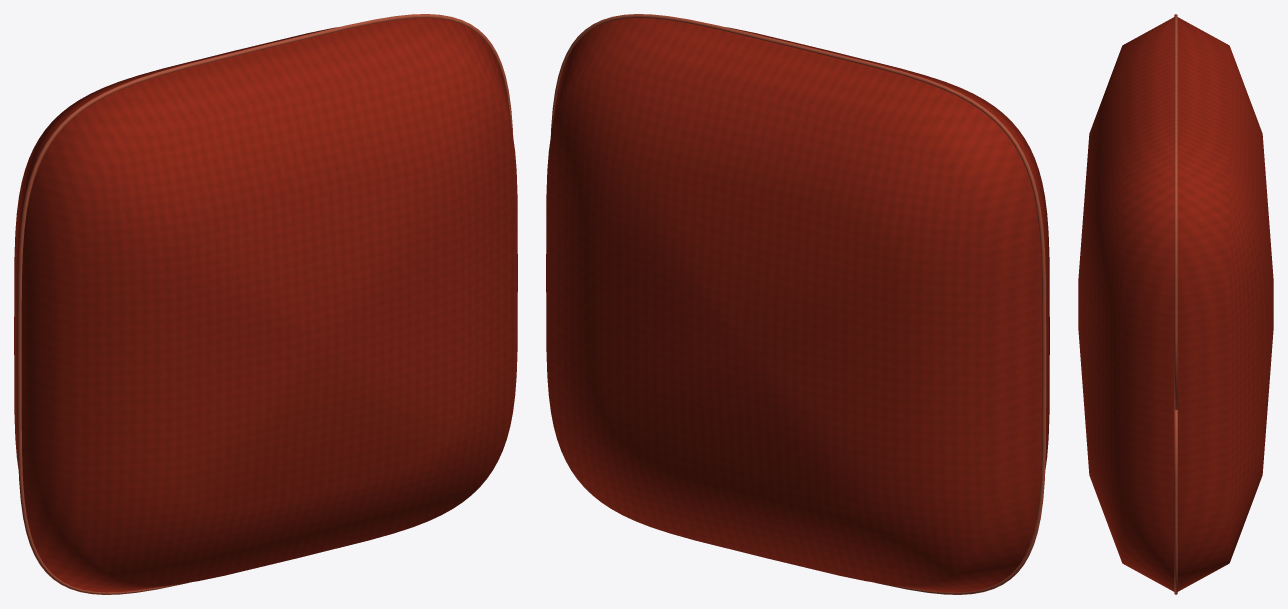
File: lod0_source.glb
3 renders of one model, left to right at view 1: azimuth 30°, elevation 25°; view 2: azimuth 150°, elevation 25°; view 3: azimuth 270°, elevation 25°, orthographic. The views are drawn at different scales.
Visible parts, largest first — view 1: Optional loose softly stuffed square cushion, Loose cushion sewn perimeter; view 2: Optional loose softly stuffed square cushion, Loose cushion sewn perimeter; view 3: Optional loose softly stuffed square cushion, Loose cushion sewn perimeter.
Boxes of the visible parts, x1,y1,x2,y2 form: Optional loose softly stuffed square cushion: [14, 18, 517, 592]; Loose cushion sewn perimeter: [17, 14, 513, 594]; Optional loose softly stuffed square cushion: [546, 18, 1049, 592]; Loose cushion sewn perimeter: [550, 14, 1046, 594]; Optional loose softly stuffed square cushion: [1078, 17, 1273, 591]; Loose cushion sewn perimeter: [1174, 14, 1177, 594].
Size of the model in its own units: 0.3636 by 0.3636 by 0.142.
Materials: 2 (1 with a texture image).
